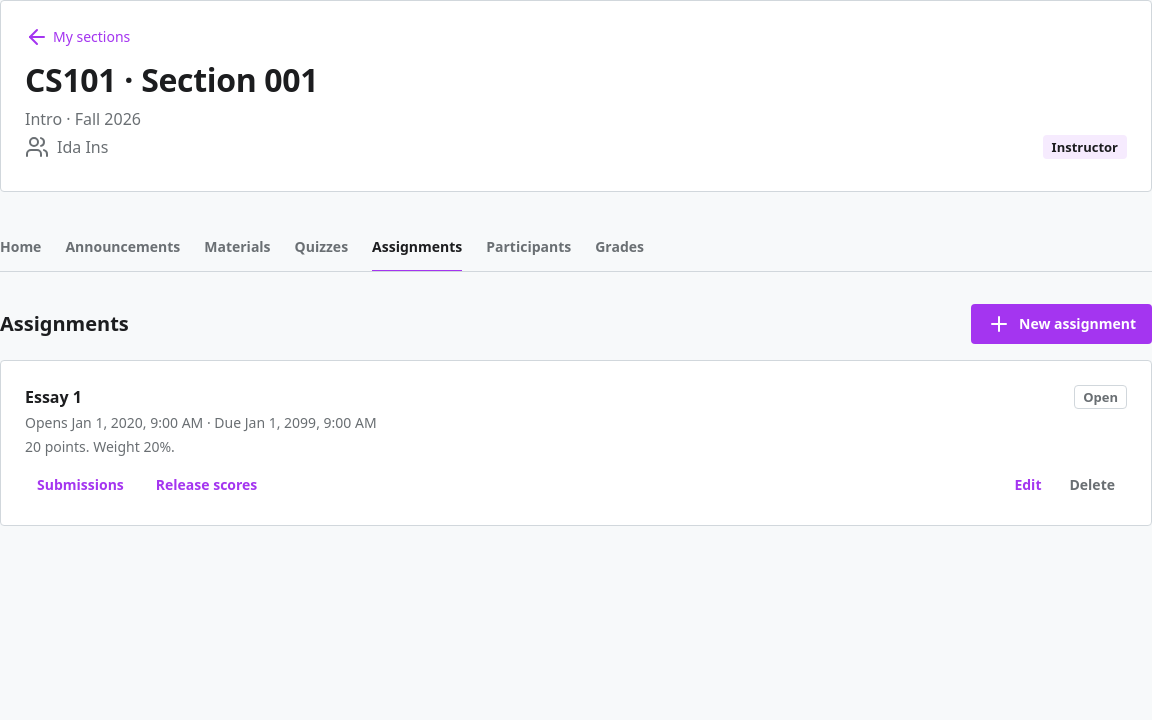
it: delete with no submissions says so
Click the button with aria-label "Delete Essay 1" at (1092, 485), box [1058,469,1127,501]
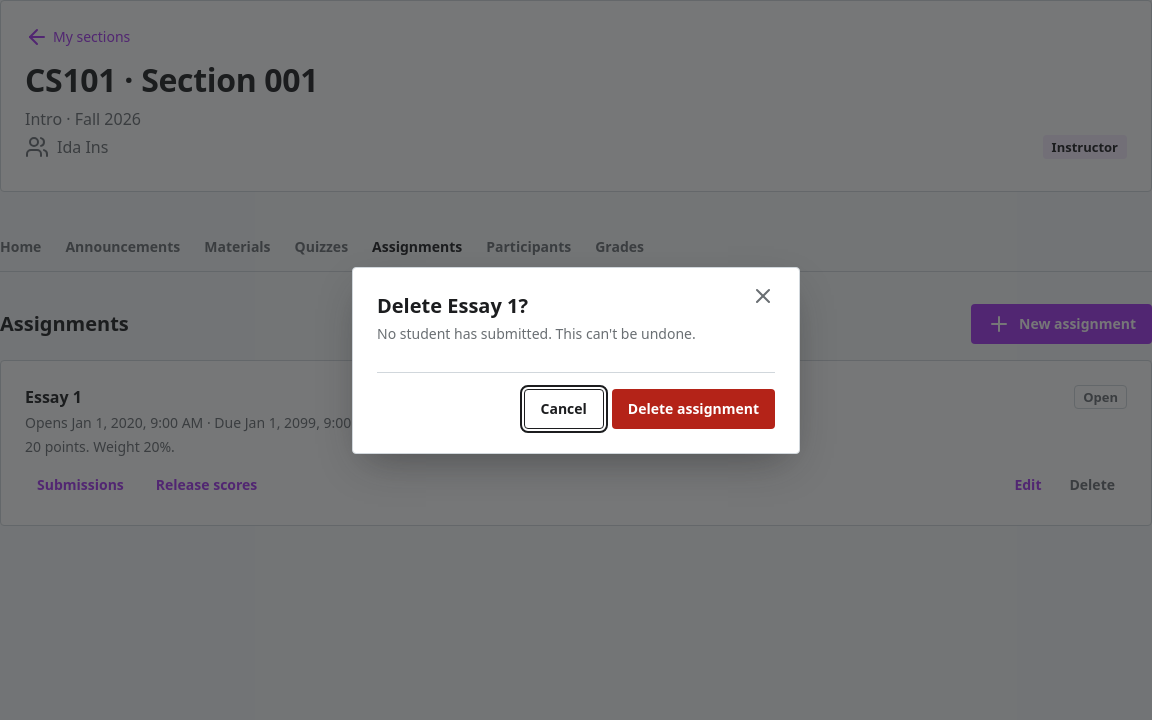
Now the text "No student has submitted. This can't be undone." is shown, box [377,324,696,342]
